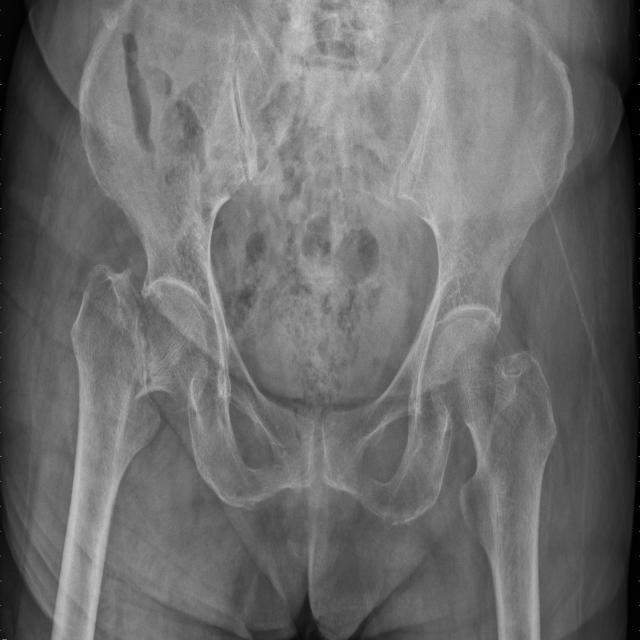normal-left: (429, 317, 556, 640)
right-neck: (71, 264, 161, 503), (134, 291, 210, 412)
